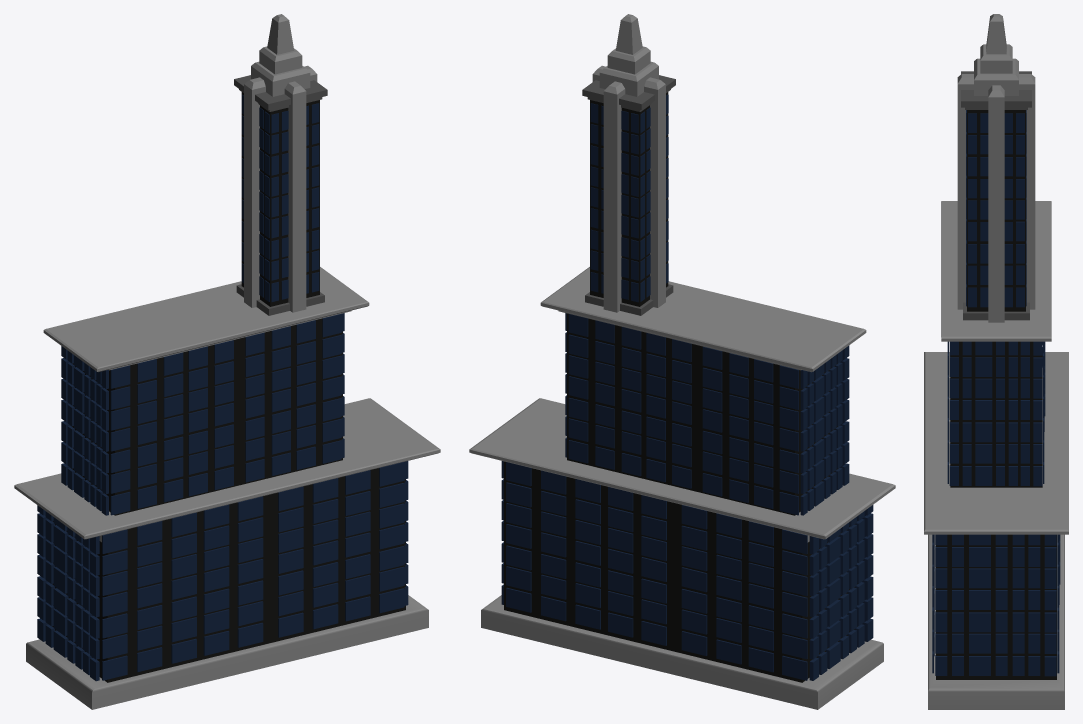
The model's file is Building_Wall_01.fbx.
3 renders of one model, left to right at view 1: azimuth 30°, elevation 25°; view 2: azimuth 150°, elevation 25°; view 3: azimuth 270°, elevation 25°, orthographic. The views are drawn at different scales.
Parts seen in each view (by area): view 1: Wall_Building_01; view 2: Wall_Building_01; view 3: Wall_Building_01.
Boxes of the visible parts, x1,y1,x2,y2 form: Wall_Building_01: (14,14,440,709); Wall_Building_01: (469,14,895,709); Wall_Building_01: (924,14,1068,709).
Size of the model in its own units: 1901 by 3139 by 647.
